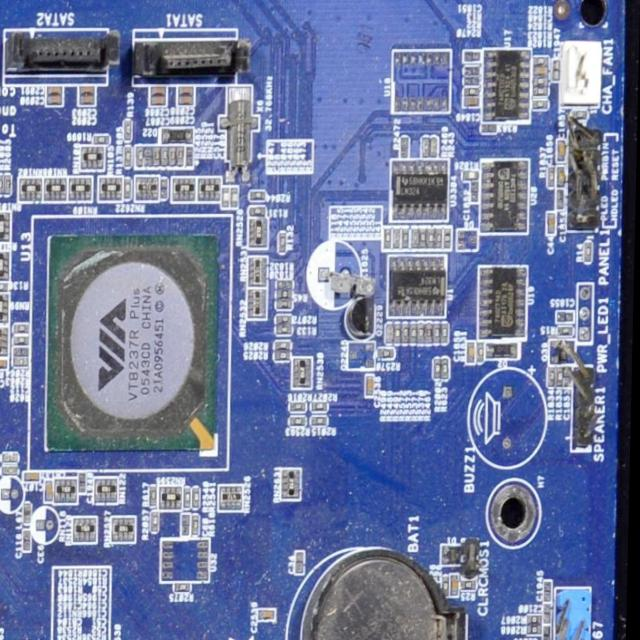IC: (390, 157, 451, 226), (477, 264, 529, 339), (479, 158, 530, 233), (485, 48, 533, 122), (390, 256, 447, 318)
capacitor: (548, 212, 558, 235), (557, 140, 567, 162), (557, 167, 567, 189), (262, 608, 279, 620), (468, 342, 477, 363), (454, 574, 462, 597), (48, 95, 63, 106), (26, 472, 44, 481), (79, 95, 95, 105), (465, 97, 481, 107), (47, 481, 55, 501), (179, 85, 194, 95), (534, 66, 550, 75), (47, 86, 63, 95), (150, 87, 167, 95), (151, 96, 166, 105), (368, 377, 375, 396), (179, 96, 193, 105), (80, 86, 95, 94), (0, 359, 10, 367)
resistor: (151, 510, 162, 535), (584, 241, 594, 264), (4, 464, 21, 476), (124, 120, 133, 142), (15, 354, 31, 366), (559, 327, 576, 338), (280, 232, 288, 255), (152, 484, 160, 507), (195, 513, 203, 536), (4, 174, 12, 196), (292, 401, 308, 412), (422, 138, 431, 157), (379, 348, 396, 358), (314, 402, 331, 412), (385, 229, 394, 247), (176, 583, 194, 592), (124, 146, 132, 166), (403, 228, 411, 248), (428, 228, 436, 248), (277, 288, 293, 298), (278, 299, 294, 309), (16, 323, 32, 333), (278, 326, 294, 336), (395, 322, 403, 342), (426, 322, 434, 342), (434, 324, 442, 344), (411, 324, 419, 344), (276, 350, 292, 360), (557, 367, 565, 387), (463, 579, 479, 589), (444, 576, 452, 596), (187, 488, 194, 510), (430, 138, 438, 157), (170, 147, 178, 166), (177, 148, 185, 167), (95, 135, 110, 145), (250, 191, 265, 201), (419, 322, 426, 343), (442, 359, 449, 380), (252, 207, 268, 216), (436, 228, 444, 246), (15, 335, 31, 344), (314, 417, 330, 426), (533, 57, 549, 66), (126, 180, 133, 200), (420, 228, 427, 248), (443, 324, 450, 344), (435, 358, 442, 378), (464, 87, 481, 95), (276, 342, 293, 350), (278, 315, 293, 324), (549, 169, 556, 188), (550, 367, 557, 386), (533, 77, 549, 85), (293, 417, 307, 426), (533, 87, 548, 95), (533, 100, 548, 108), (446, 228, 452, 248), (530, 626, 545, 634), (405, 323, 411, 342), (465, 172, 479, 180), (279, 280, 293, 288), (530, 616, 544, 624), (0, 175, 3, 196)
